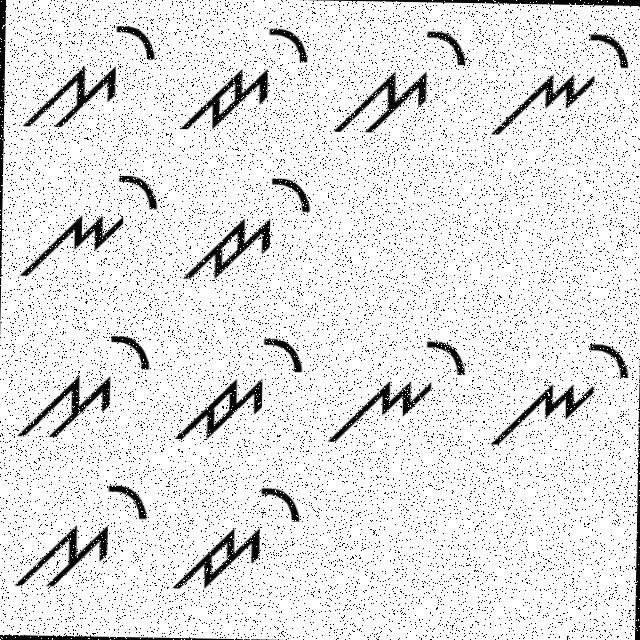jay: (175, 167, 317, 288), (170, 476, 308, 598), (178, 16, 311, 134), (171, 331, 305, 448)
nyay: (13, 159, 160, 288), (326, 330, 468, 450), (487, 24, 632, 140), (490, 334, 632, 452)
say: (13, 319, 159, 446), (10, 476, 152, 599), (326, 22, 469, 141), (21, 11, 156, 134)
